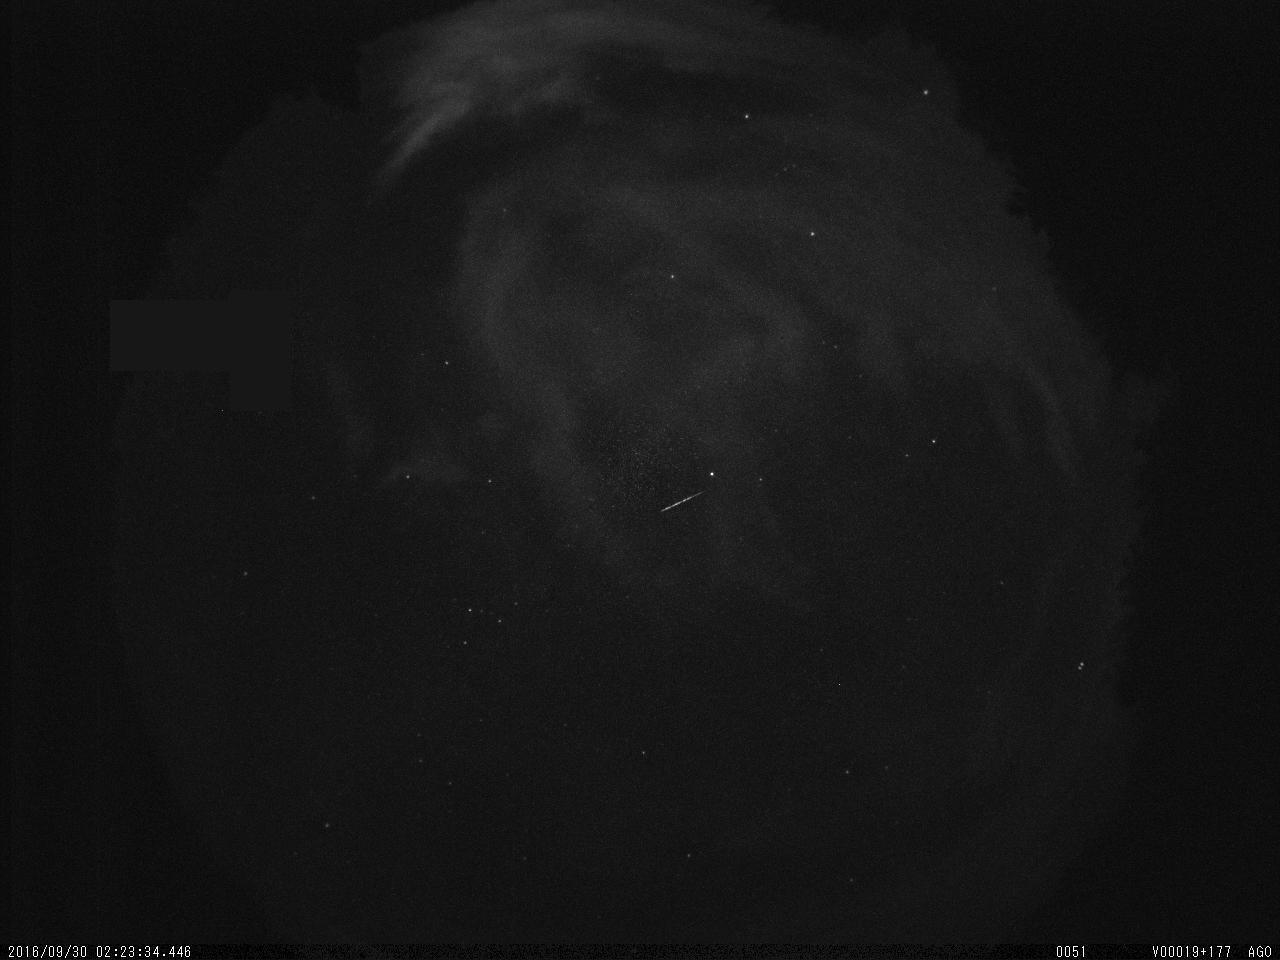meteor: (644, 484, 713, 522)
